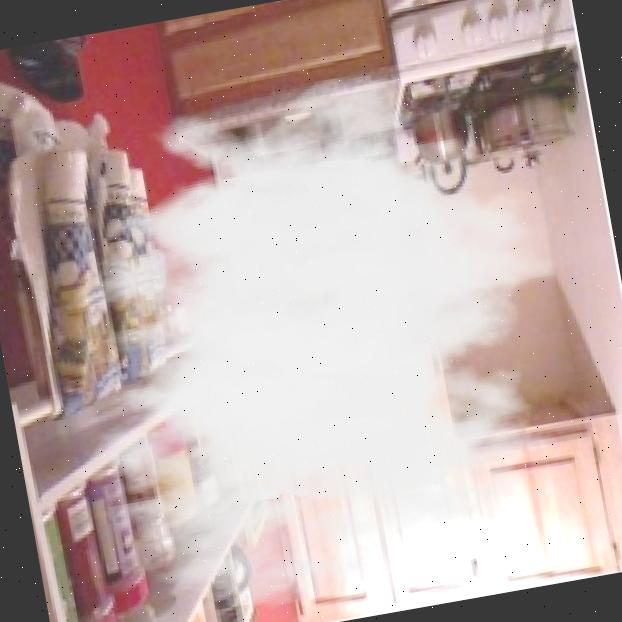smoke: (0, 42, 614, 622)
